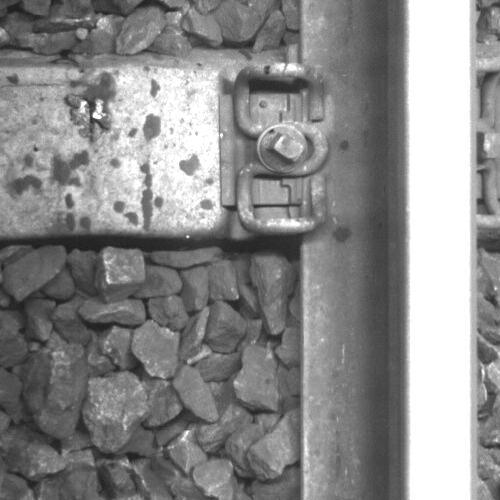rail: (406, 1, 476, 500)
tie_concr: (1, 67, 301, 231)
vossloh: (219, 61, 328, 234)
